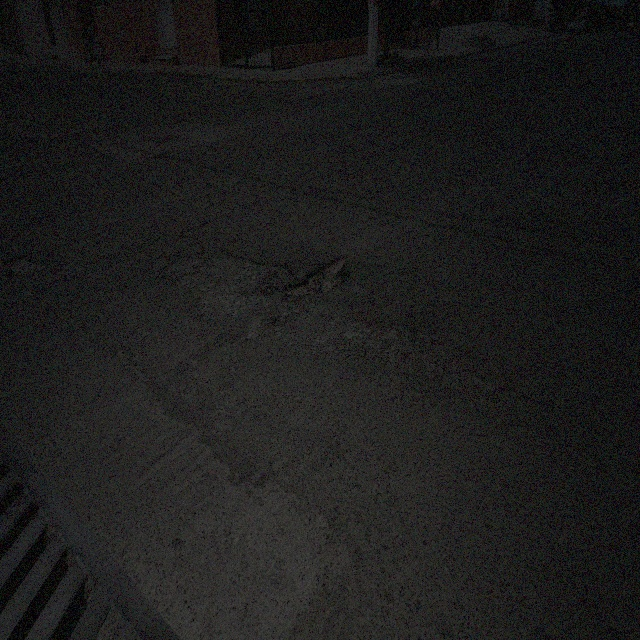pothole: (289, 252, 350, 302), (3, 252, 51, 278)
